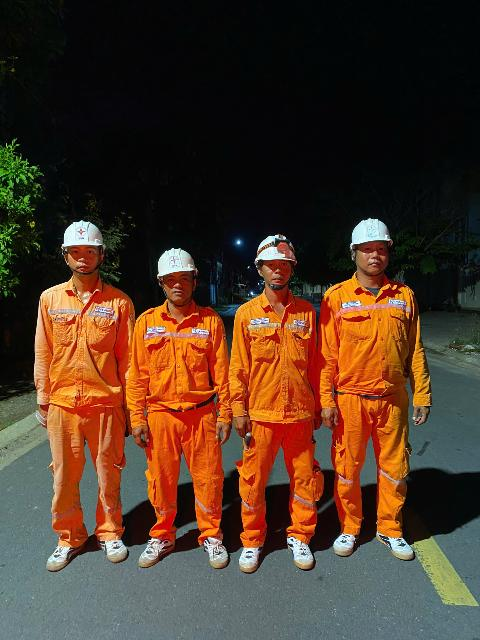helmet: (56, 218, 114, 257), (350, 212, 407, 247), (253, 232, 300, 264), (157, 247, 200, 276)
shoes: (129, 520, 184, 572), (40, 532, 87, 575), (278, 533, 322, 578), (371, 524, 415, 566), (193, 530, 232, 575), (88, 533, 133, 563), (329, 526, 364, 560), (234, 538, 263, 573)
